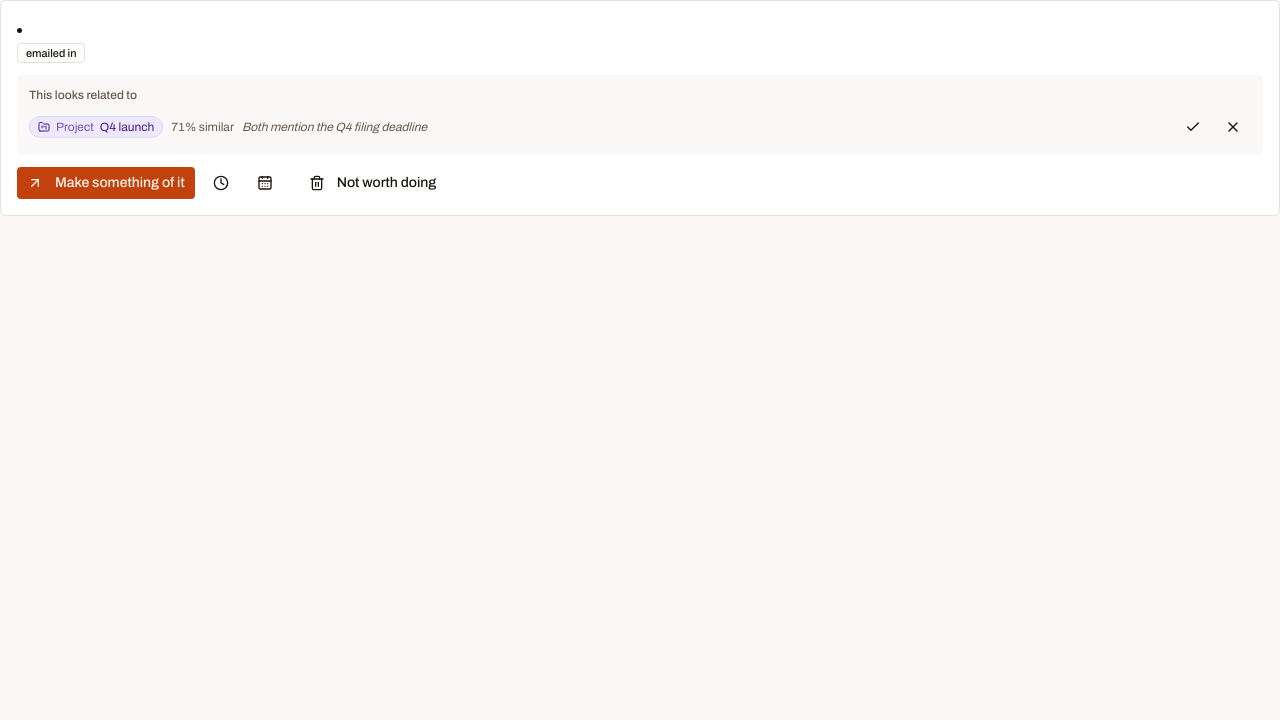
ThoughtCard › falls back to the full note when the first line is blank
Click the button "Make something of it". click: (106, 183)
box: [17,167,195,199]
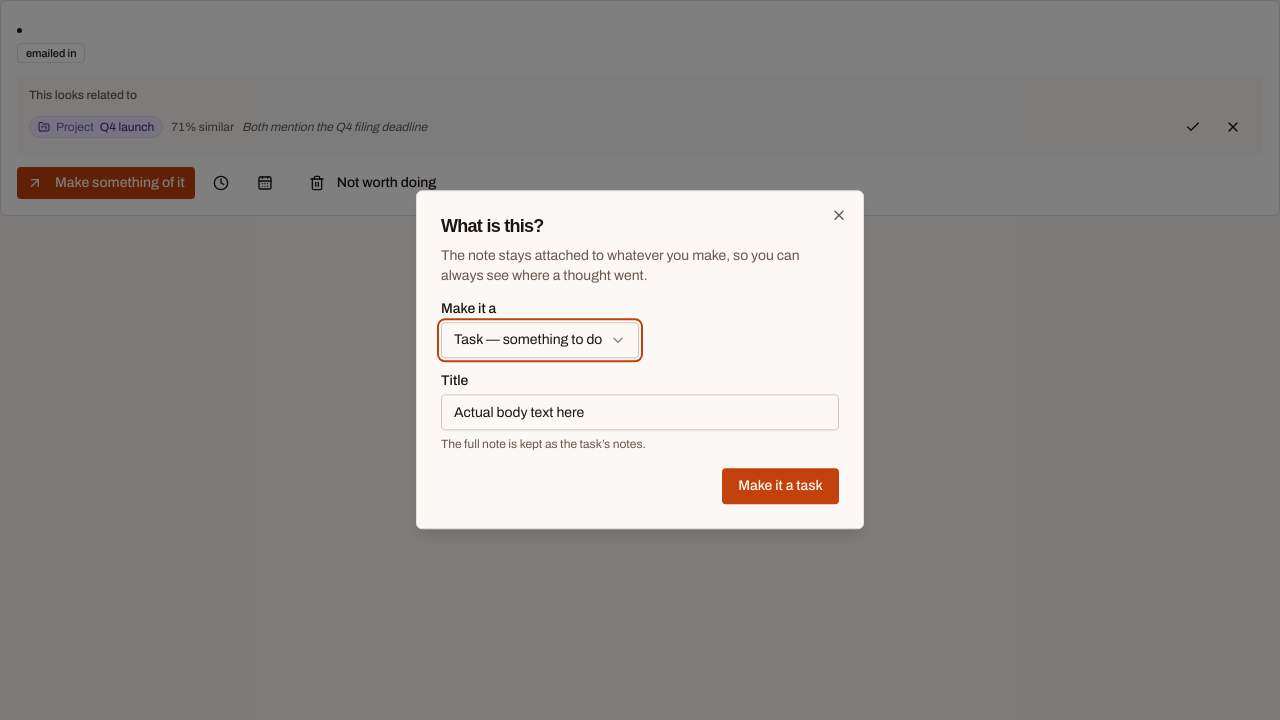
Now the field labelled "Title" holds "Actual body text here", box [441,395,839,431]
